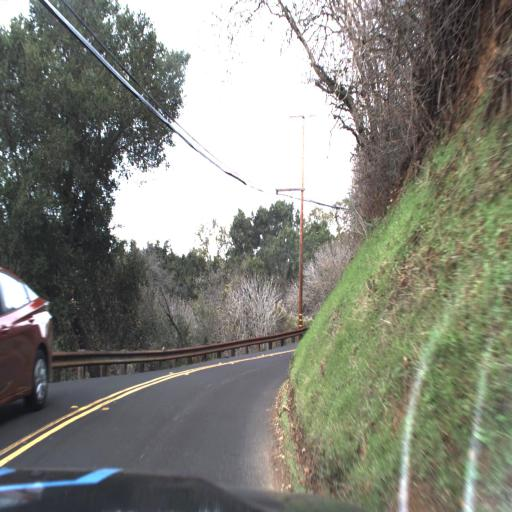car: (0, 262, 53, 411)
